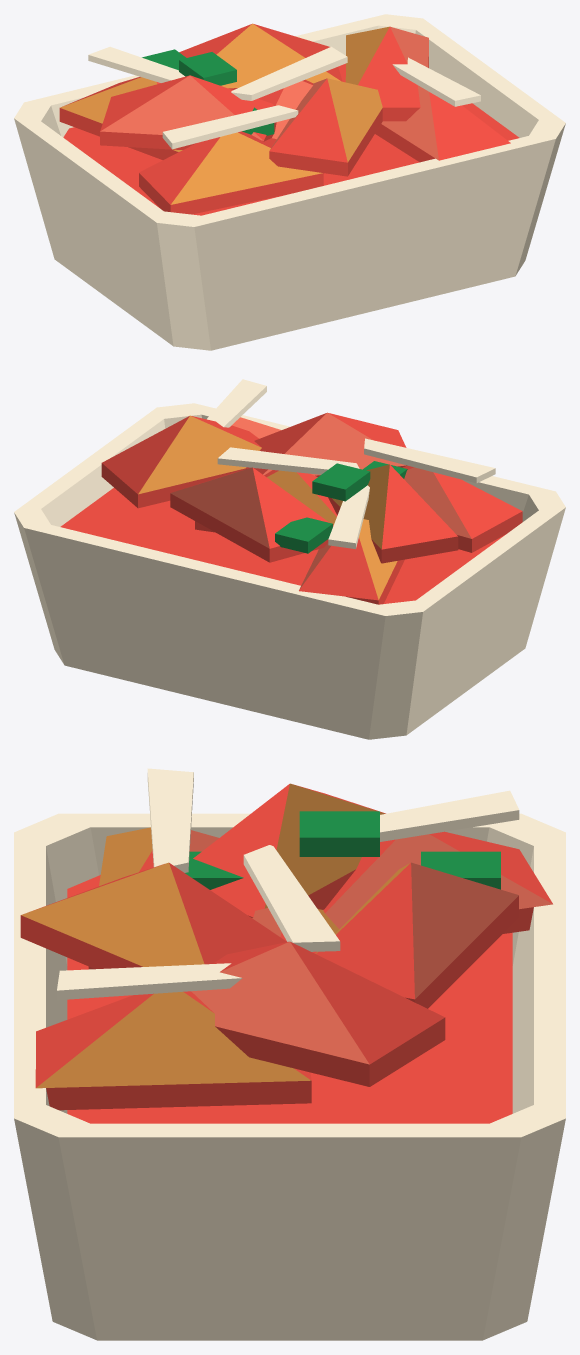
Rendered from 04-kimchi.glb.
The picture shows the model from 3 angles, top to bottom: view 1: azimuth 30°, elevation 25°; view 2: azimuth 150°, elevation 25°; view 3: azimuth 270°, elevation 25°; orthographic projection. The views are drawn at different scales.
Visible parts, largest first — view 1: 04-kimchi__OpenContainer, 04-kimchi__FoldedCabbage_0, 04-kimchi__FoldedCabbage_1, 04-kimchi__FoldedCabbage_3, 04-kimchi__FoldedCabbage_5, 04-kimchi__FoldedCabbage_2, 04-kimchi__KimchiFill, 04-kimchi__FoldedCabbage_7, 04-kimchi__FoldedCabbage_6, 04-kimchi__CabbageStalk_0, 04-kimchi__CabbageStalk_4, 04-kimchi__CabbageStalk_2 (+4 smaller); view 2: 04-kimchi__OpenContainer, 04-kimchi__KimchiFill, 04-kimchi__FoldedCabbage_5, 04-kimchi__FoldedCabbage_7, 04-kimchi__FoldedCabbage_3, 04-kimchi__FoldedCabbage_0, 04-kimchi__FoldedCabbage_1, 04-kimchi__FoldedCabbage_6, 04-kimchi__CabbageStalk_0, 04-kimchi__CabbageStalk_4, 04-kimchi__FoldedCabbage_4, 04-kimchi__LeafTip_3 (+4 smaller); view 3: 04-kimchi__OpenContainer, 04-kimchi__KimchiFill, 04-kimchi__FoldedCabbage_2, 04-kimchi__FoldedCabbage_5, 04-kimchi__FoldedCabbage_1, 04-kimchi__FoldedCabbage_7, 04-kimchi__FoldedCabbage_3, 04-kimchi__FoldedCabbage_6, 04-kimchi__CabbageStalk_2, 04-kimchi__CabbageStalk_4, 04-kimchi__CabbageStalk_0, 04-kimchi__CabbageStalk_6 (+4 smaller).
Part boxes in pixels (x1,y1,x2,y2): 04-kimchi__OpenContainer: (14,14,565,350); 04-kimchi__FoldedCabbage_0: (139,131,323,214); 04-kimchi__FoldedCabbage_1: (269,78,382,176); 04-kimchi__FoldedCabbage_3: (100,75,276,149); 04-kimchi__FoldedCabbage_5: (345,26,428,121); 04-kimchi__FoldedCabbage_2: (375,85,510,162); 04-kimchi__KimchiFill: (63,63,519,215); 04-kimchi__FoldedCabbage_7: (179,23,342,90); 04-kimchi__FoldedCabbage_6: (59,77,182,159); 04-kimchi__CabbageStalk_0: (162,105,298,149); 04-kimchi__CabbageStalk_4: (231,46,347,100); 04-kimchi__CabbageStalk_2: (392,57,480,106); 04-kimchi__OpenContainer: (14,403,565,739); 04-kimchi__KimchiFill: (60,488,505,603); 04-kimchi__FoldedCabbage_5: (101,415,261,508); 04-kimchi__FoldedCabbage_7: (170,467,333,562); 04-kimchi__FoldedCabbage_3: (328,464,458,563); 04-kimchi__FoldedCabbage_0: (403,466,522,552); 04-kimchi__FoldedCabbage_1: (245,412,407,476); 04-kimchi__FoldedCabbage_6: (299,519,404,604); 04-kimchi__CabbageStalk_0: (364,438,495,483); 04-kimchi__CabbageStalk_4: (217,447,359,474); 04-kimchi__FoldedCabbage_4: (195,470,337,532); 04-kimchi__LeafTip_3: (312,463,370,501); 04-kimchi__OpenContainer: (14,813,565,1340); 04-kimchi__KimchiFill: (67,875,512,1123); 04-kimchi__FoldedCabbage_2: (35,991,311,1110); 04-kimchi__FoldedCabbage_5: (191,941,445,1086); 04-kimchi__FoldedCabbage_1: (20,862,286,969); 04-kimchi__FoldedCabbage_7: (315,862,518,1008); 04-kimchi__FoldedCabbage_3: (193,783,385,917); 04-kimchi__FoldedCabbage_6: (323,831,552,933); 04-kimchi__CabbageStalk_2: (57,963,242,1000); 04-kimchi__CabbageStalk_4: (243,845,340,951); 04-kimchi__CabbageStalk_0: (147,768,193,872); 04-kimchi__CabbageStalk_6: (380,790,519,841).
Bounding box in the file's own units: 0.43 × 0.21 × 0.31.
